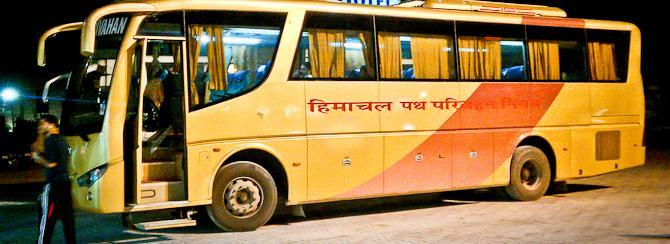Bus: (59, 0, 646, 232)
